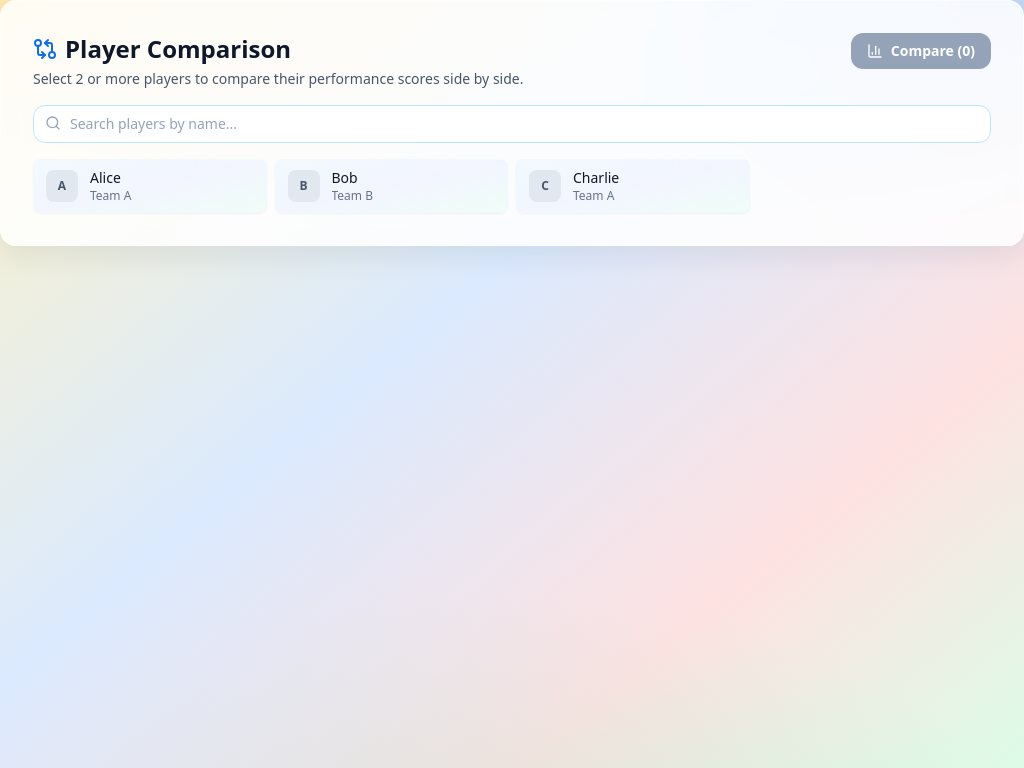
Scenario: PlayerComparison › selects and deselects a player
Expected: the text "Alice" is shown, [90,168,121,187]
What coordinates should you click on to do the following:
click the button "A Alice Team A"
I would click on:
 (150, 186)
Its box is [33,159,266,213].
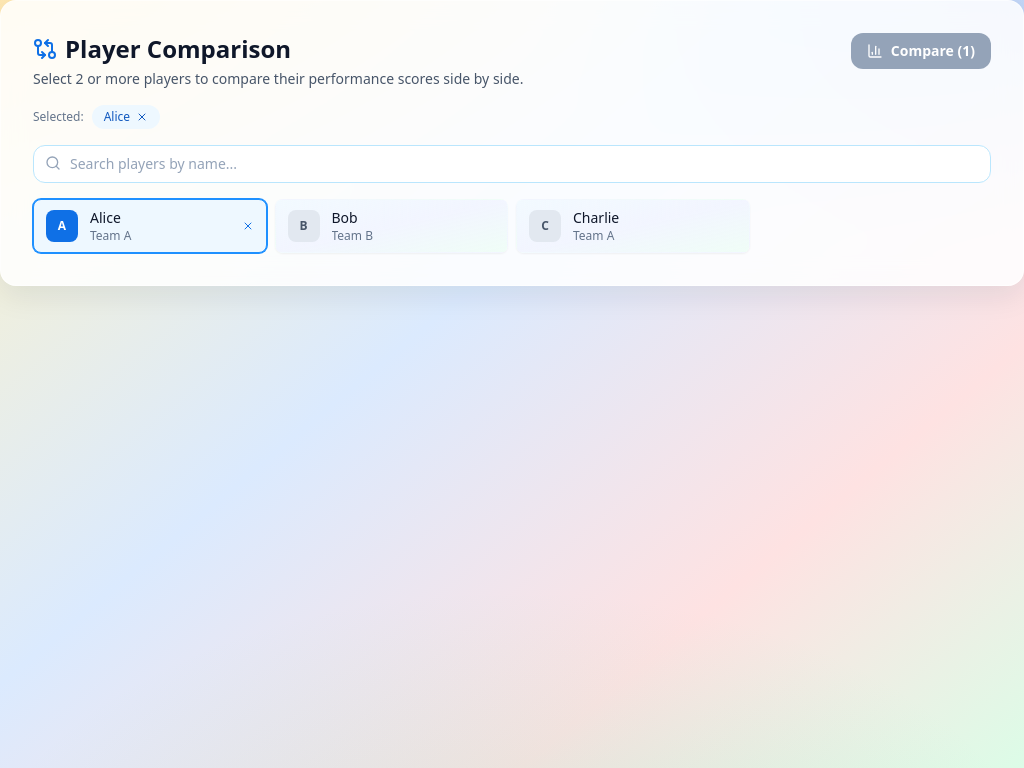
Now the button "Compare (1)" is shown, box [851,33,991,69]
What coordinates should you click on to do the following:
click the button "A Alice Team A"
I would click on:
 (150, 226)
Its box is [33,199,266,253].
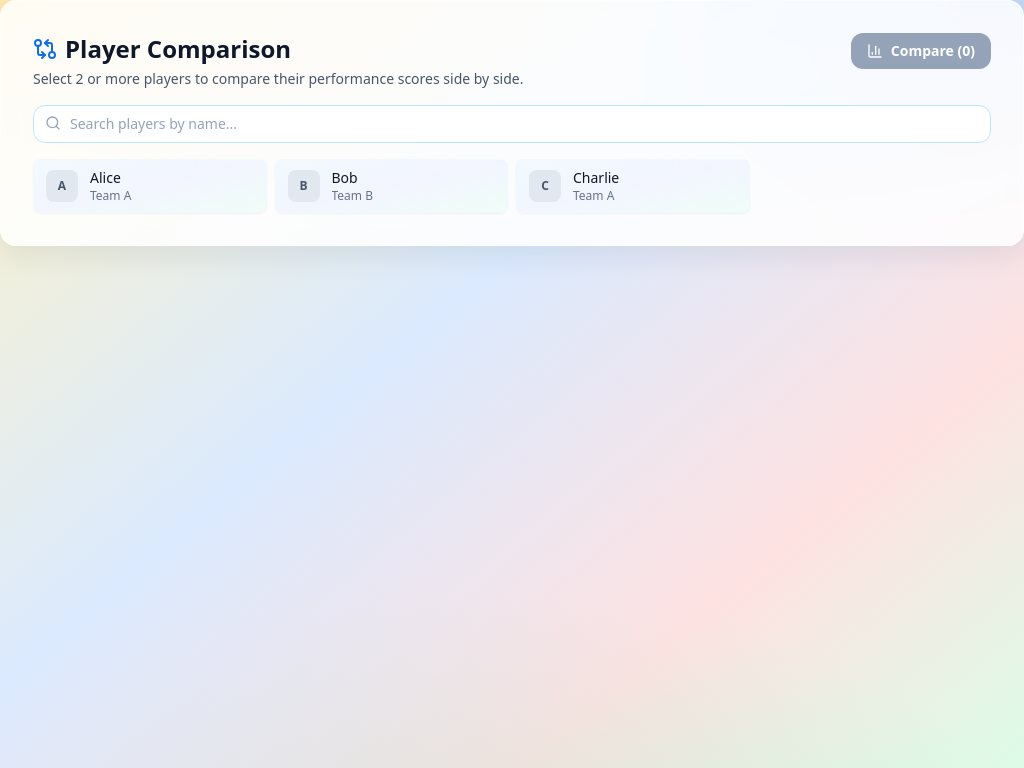
Now the button "Compare (0)" is shown, box [851,33,991,69]
